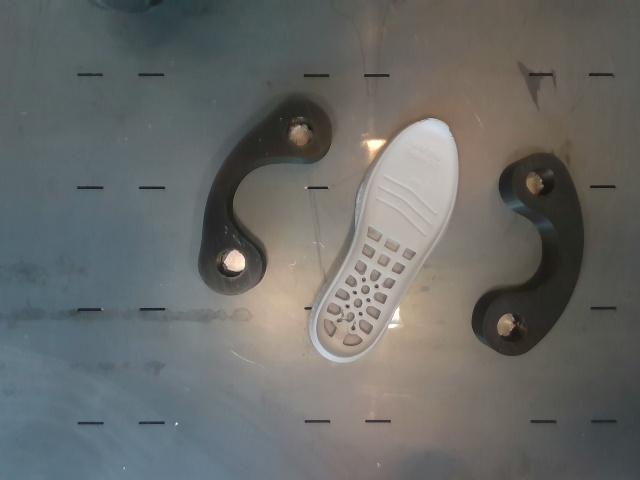shoes: (315, 119, 456, 360)
